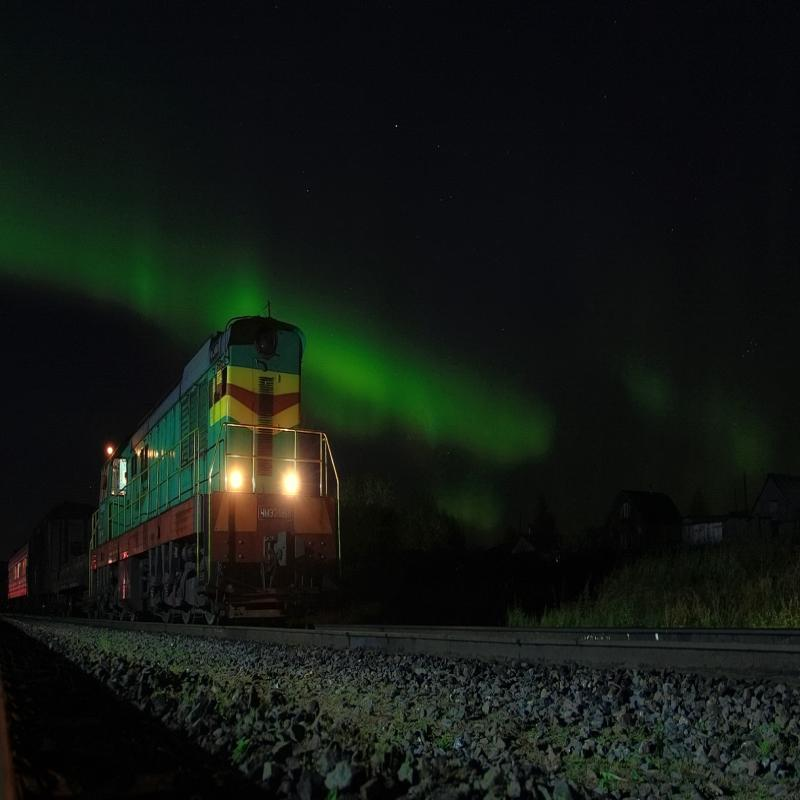train: (81, 317, 354, 634)
